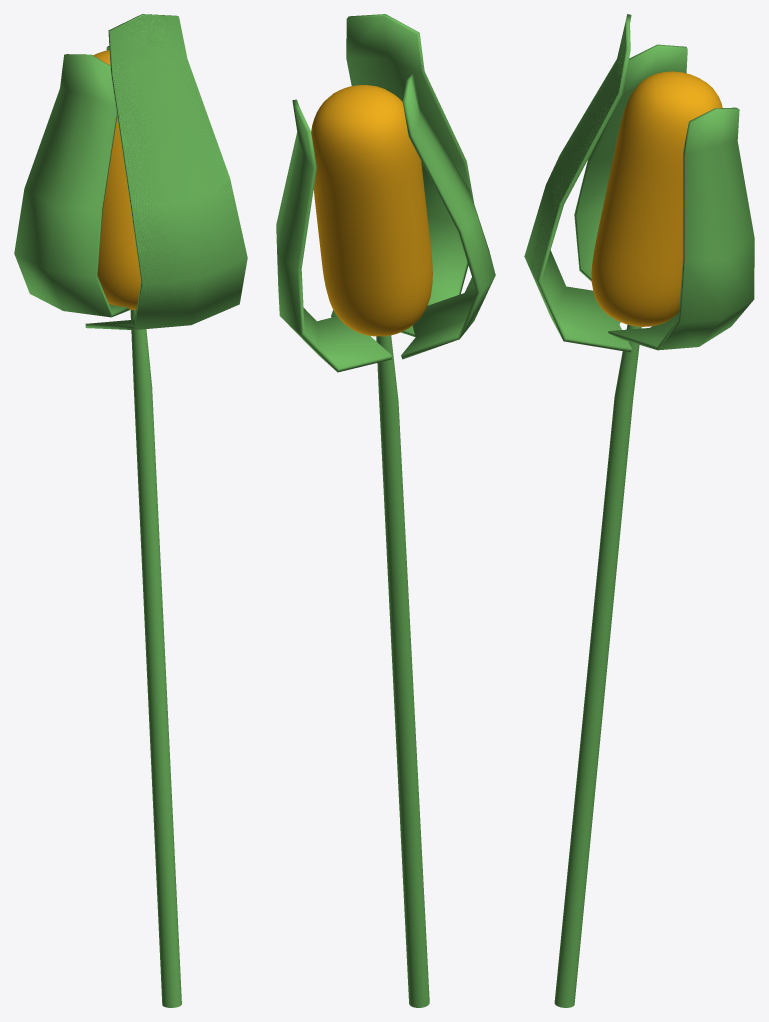
File: corn_ready.glb
3 views of the same model, side by side, from view 1: azimuth 30°, elevation 25°; view 2: azimuth 150°, elevation 25°; view 3: azimuth 270°, elevation 25° (orthographic). The views are drawn at different scales.
Visible parts, largest first — view 1: Corn, Corn.009; view 2: Corn, Corn.009; view 3: Corn, Corn.009.
Part boxes in pixels (<box>): Corn: <box>93,15,247,1007</box>; Corn.009: <box>14,14,246,329</box>; Corn: <box>311,85,432,1007</box>; Corn.009: <box>276,14,495,372</box>; Corn: <box>524,22,722,1007</box>; Corn.009: <box>525,14,754,352</box>.
Bounding box in the file's own units: 0.5004 × 2.48 × 0.5261.
